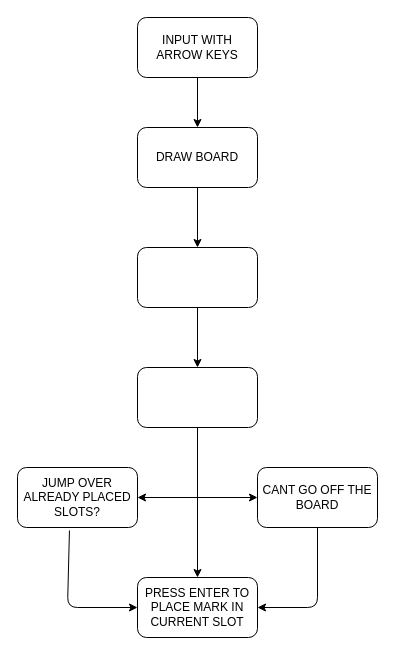
Some shapes in this 395 by 655 pixel diagram are drawn without their labels. Here are the shapes that lost their labels. From the top down, the box of each, then its label:
(136, 246, 258, 308): RESET INPUT TO TOP LEFT SLOT
(136, 366, 258, 428): EACH KEY INPUT MOVES CHOSEN ROW BY SET INDENT
